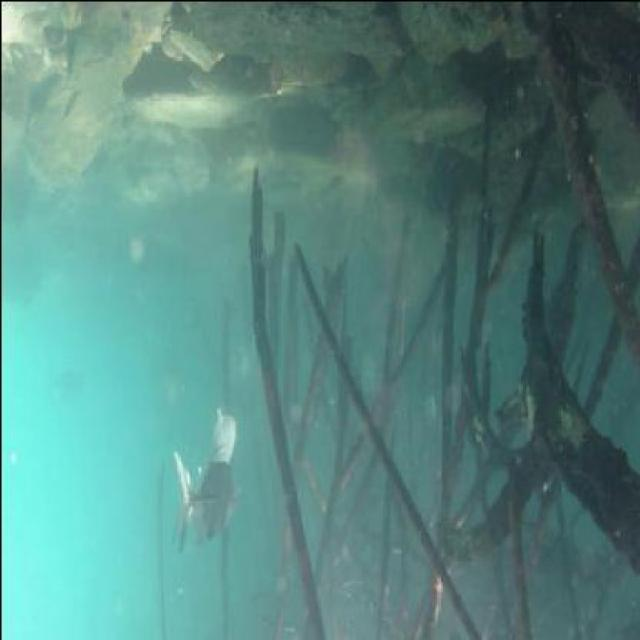Caranx_sexfasciatus_juvenile: (167, 448, 233, 548), (204, 398, 238, 469)
